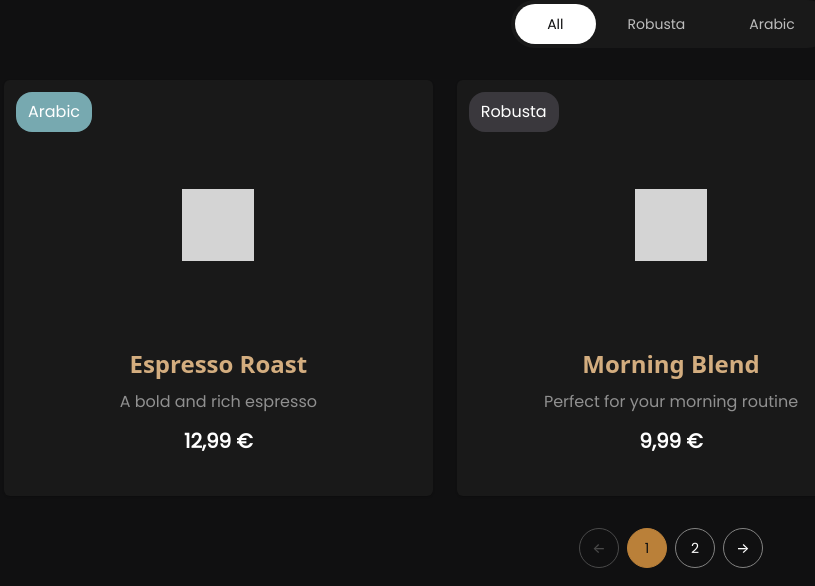
Coffee List Integration › Pagination › should change page when clicking pagination
expect the heading "Espresso Roast" is shown: met, box [130,346,307,382]
Note: Go to page 2
Click the button "2": (695, 548) [675,528,715,568]
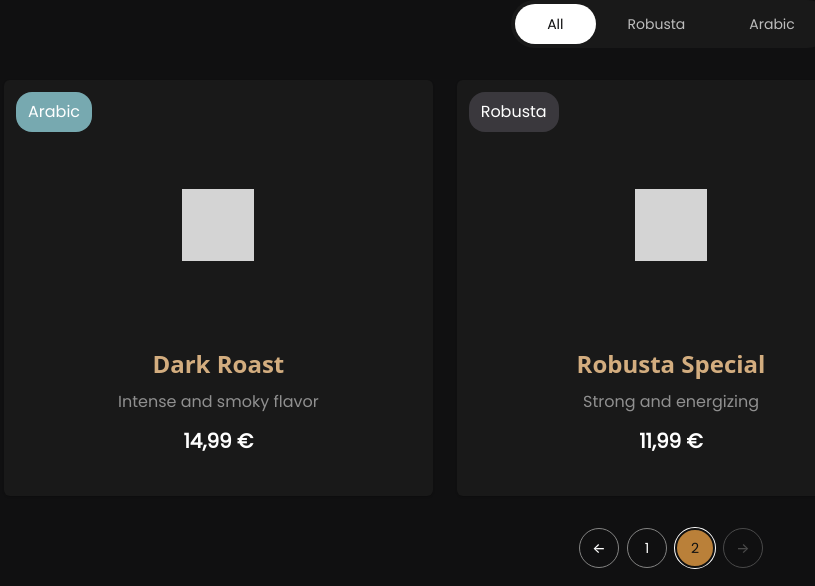
expect the heading "Dark Roast" is shown: met, box [152,346,284,382]
